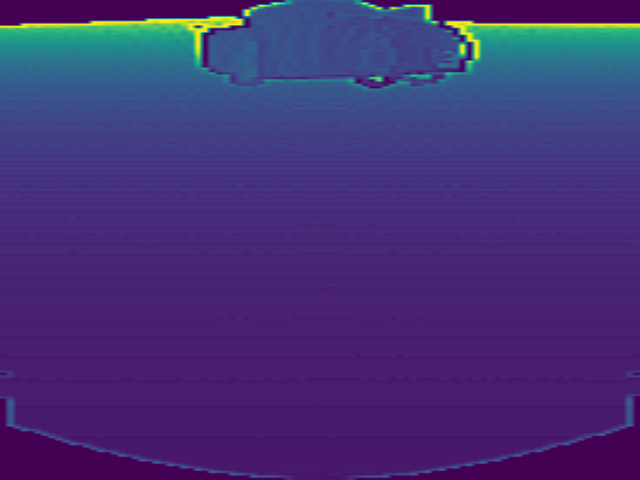car_0027: (196, 1, 478, 90)
